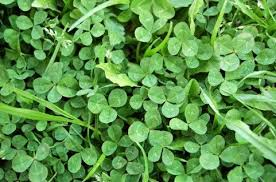4-clover: (33, 63, 80, 104)
